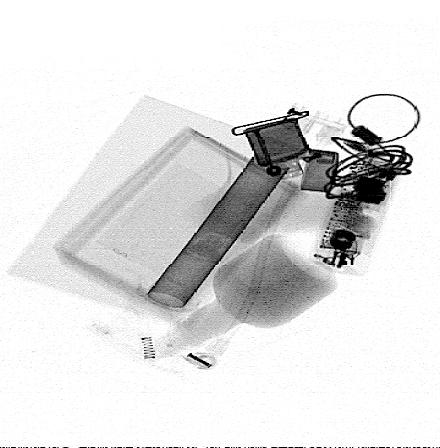Lighter: (244, 116, 339, 193)
